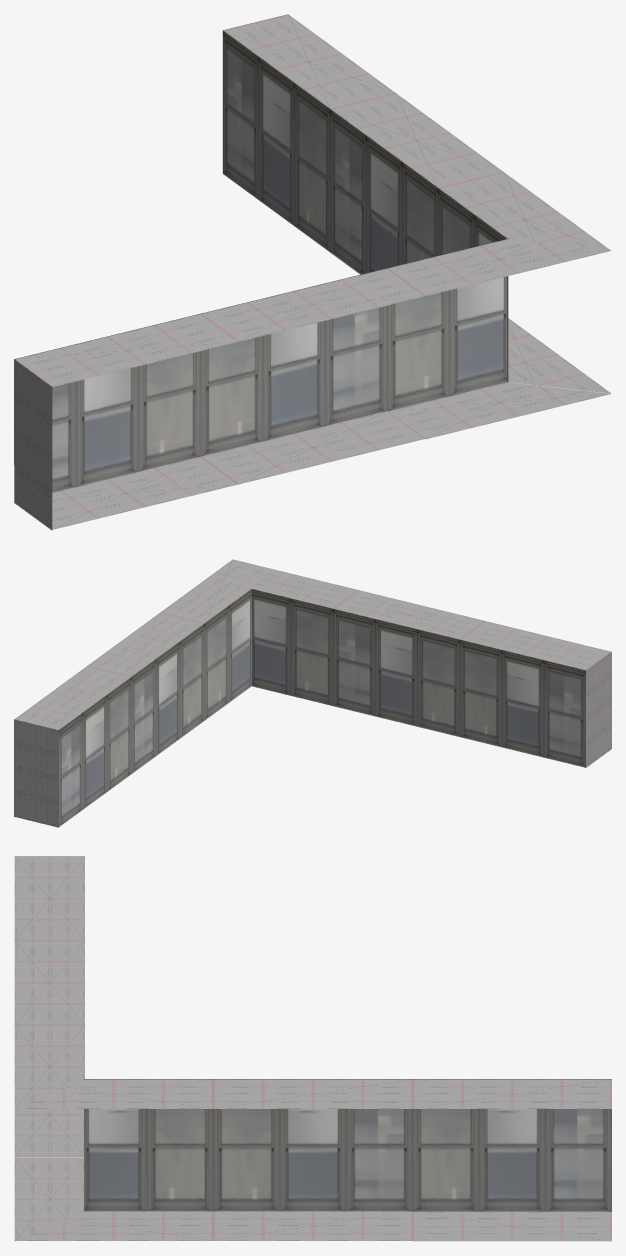
The model's file is BS_01_3x_inner_close.FBX.
The picture shows the model from 3 angles, top to bottom: view 1: azimuth 30°, elevation 25°; view 2: azimuth 150°, elevation 25°; view 3: azimuth 270°, elevation 25°; orthographic projection. The views are drawn at different scales.
Visible parts, largest first — view 1: Object263; view 2: Object263; view 3: Object263.
Boxes of the visible parts, x1,y1,x2,y2 form: Object263: (14, 14, 611, 530); Object263: (14, 559, 611, 827); Object263: (14, 856, 611, 1241).
Size of the model in its own units: 60.01 by 60.01 by 14.74.
